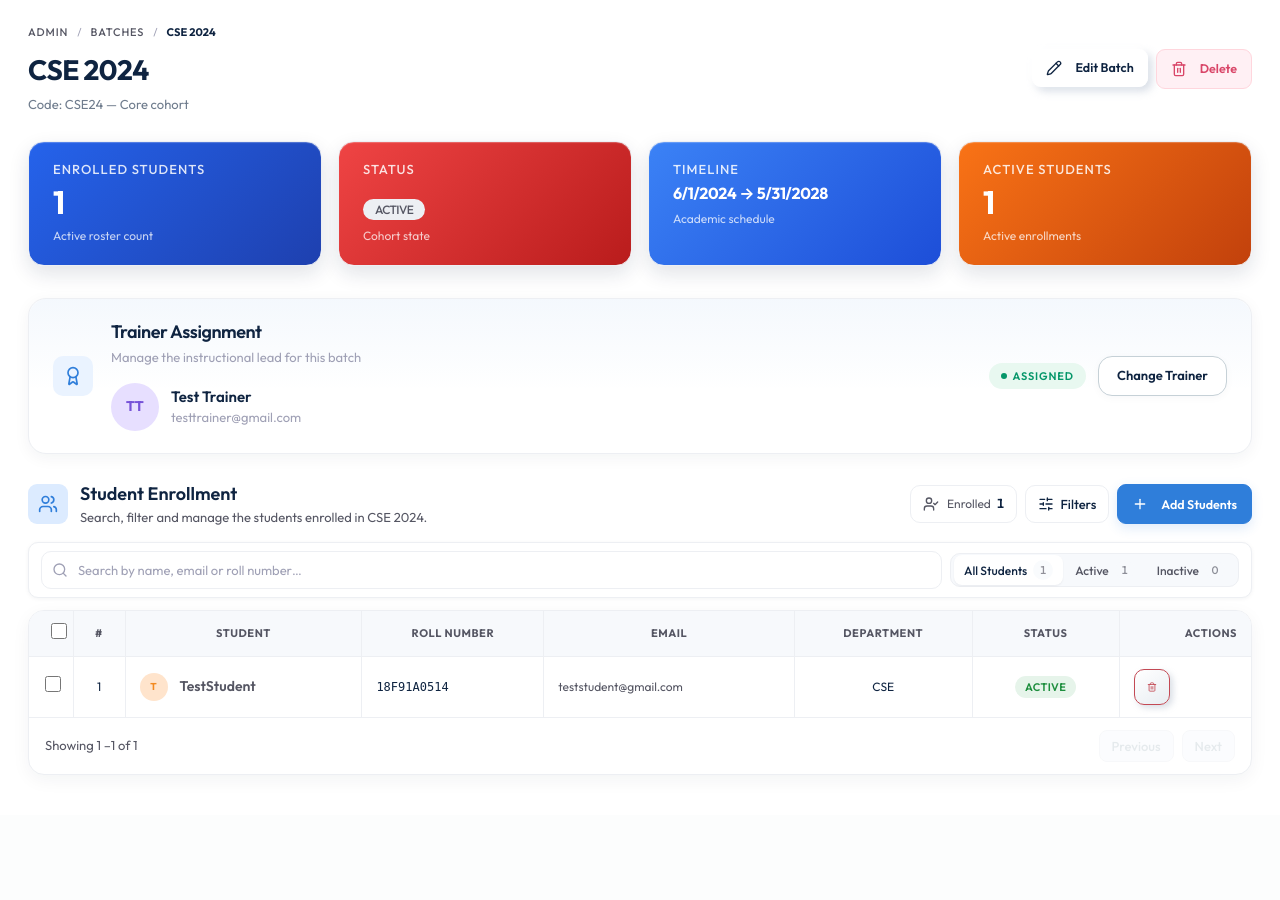
Test: active filters render as removable chips
Check: the text "TestStudent" is shown, box [180,677,256,695]
Type "Test" into the field named "Search enrolled students".
click(492, 570); type("Test")  # box [41,551,942,589]
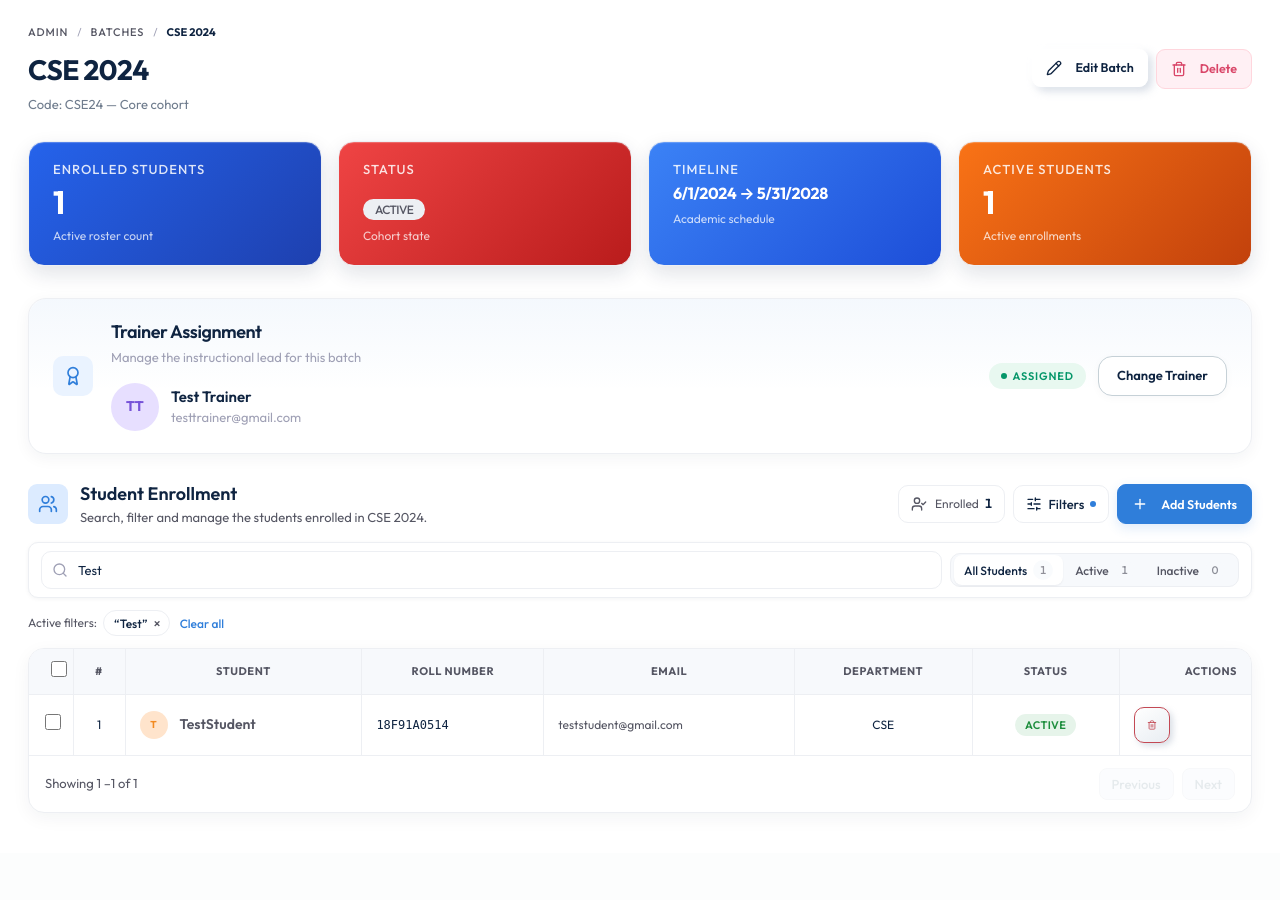
Check: the button with aria-label "Remove search filter" shows "“Test”"
# Removing the chip clears only that filter, not the whole toolbar.
Click the button with aria-label "Remove search filter".
click(136, 623)  # box [103,610,170,636]
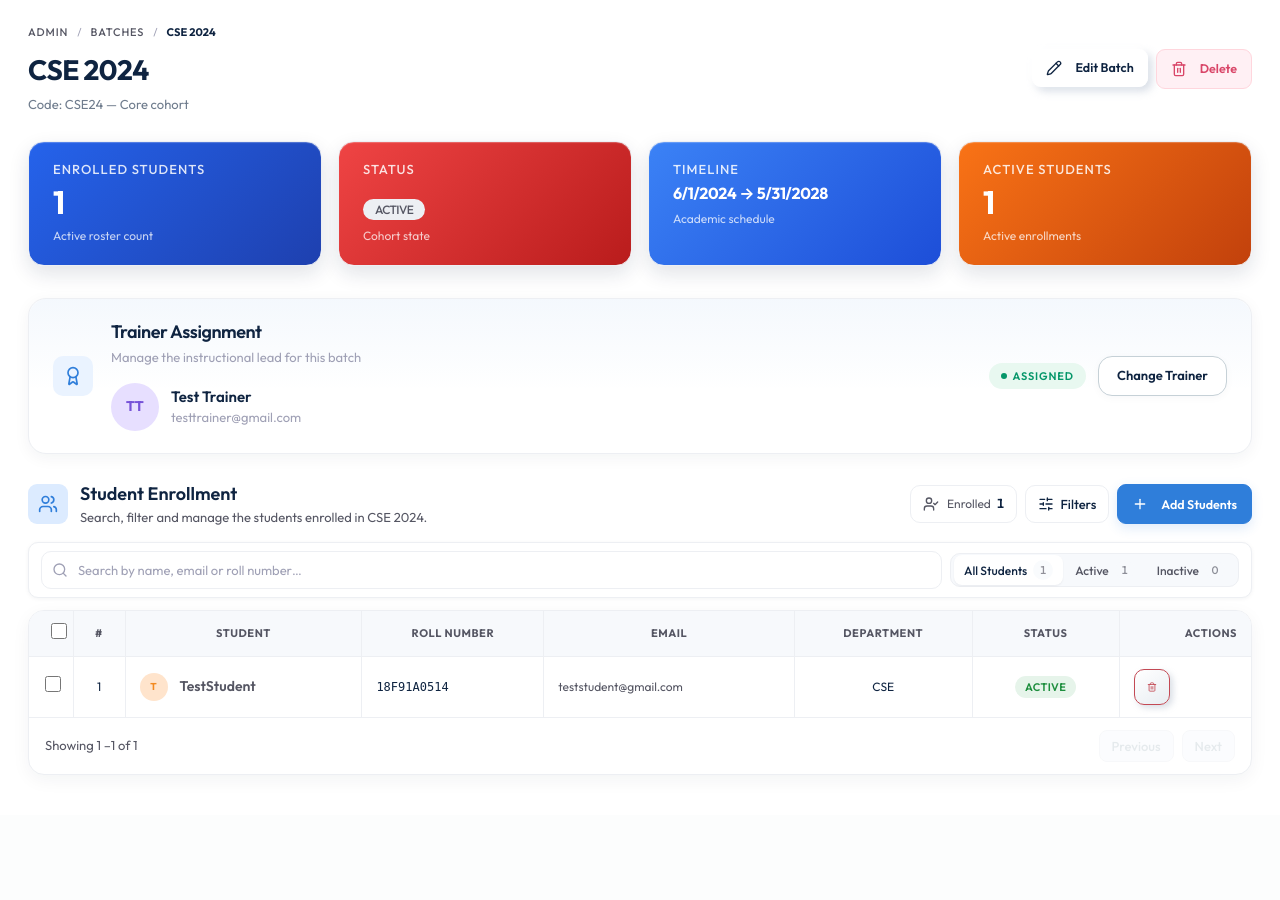
Check: the field named "Search enrolled students" is empty, box [41,551,942,589]
